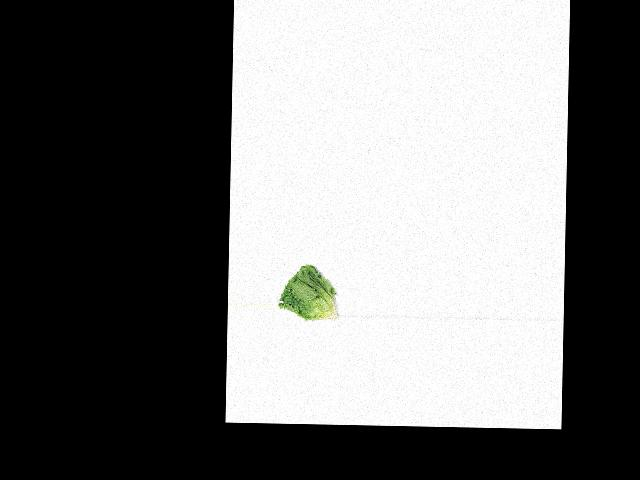lettuce: (278, 258, 341, 325)
